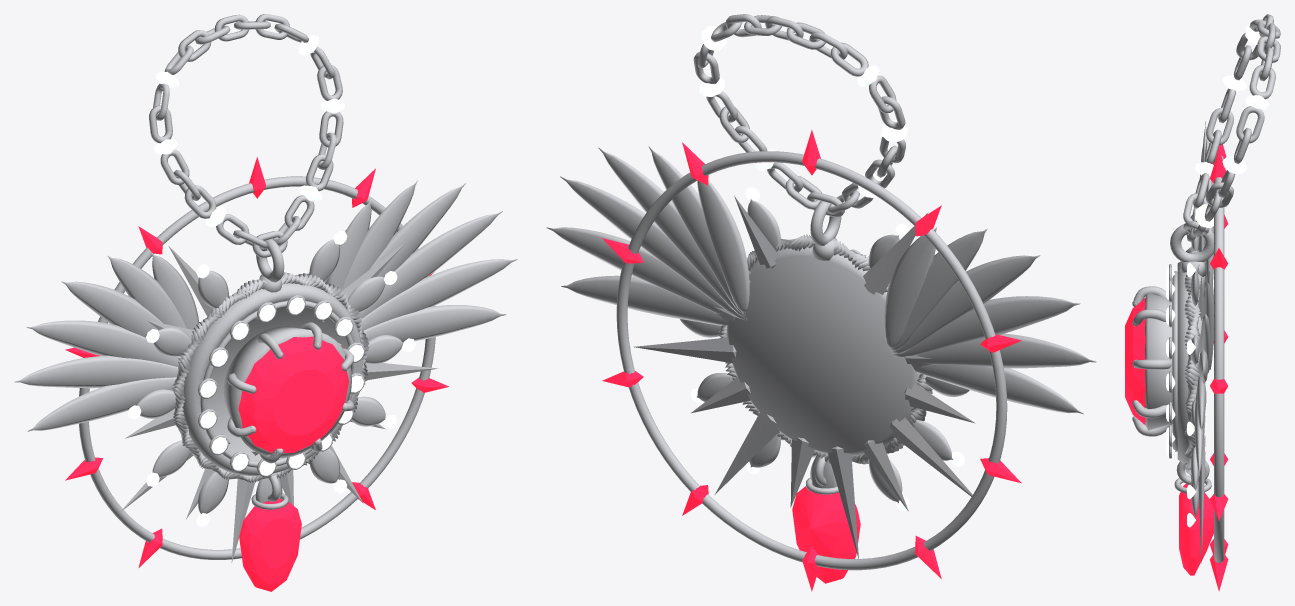
The model's file is jewel_amulet_mythic.glb.
The picture shows the model from 3 angles, left to right: view 1: azimuth 30°, elevation 25°; view 2: azimuth 150°, elevation 25°; view 3: azimuth 270°, elevation 25°; orthographic projection. The views are drawn at different scales.
Visible parts, largest first — view 1: jewel_amulet_mythic; view 2: jewel_amulet_mythic; view 3: jewel_amulet_mythic.
Part boxes in pixels (x1,y1,x2,y2): jewel_amulet_mythic: (14, 14, 517, 591); jewel_amulet_mythic: (546, 14, 1096, 591); jewel_amulet_mythic: (1125, 14, 1280, 591).
Size of the model in its own units: 5.65 by 5.85 by 1.51.
